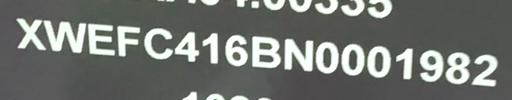letter: (41, 16, 87, 54), (14, 15, 48, 51), (282, 34, 314, 72), (468, 51, 500, 88), (142, 25, 174, 61), (249, 32, 281, 68), (86, 21, 118, 55), (443, 48, 471, 86), (313, 38, 341, 75), (339, 40, 367, 77), (364, 42, 392, 79), (223, 32, 251, 68), (173, 28, 201, 62), (114, 23, 140, 59), (418, 48, 444, 84), (200, 28, 222, 66), (394, 45, 414, 82)
